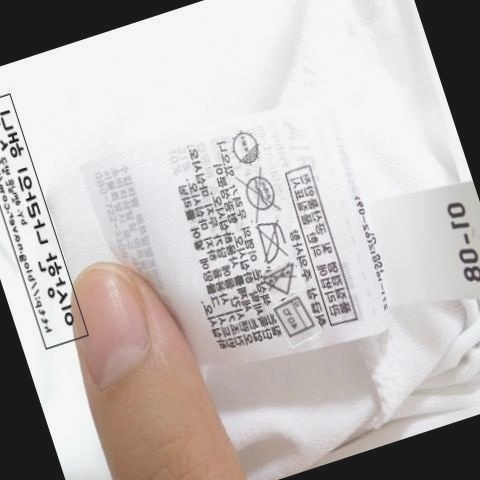40C: (268, 297, 316, 339)
DN_dry_clean: (236, 170, 282, 216)
DN_iron: (251, 220, 289, 264)
line_dry_in_shade: (224, 127, 263, 165)
non_chlorine_bleach: (259, 263, 299, 295)
